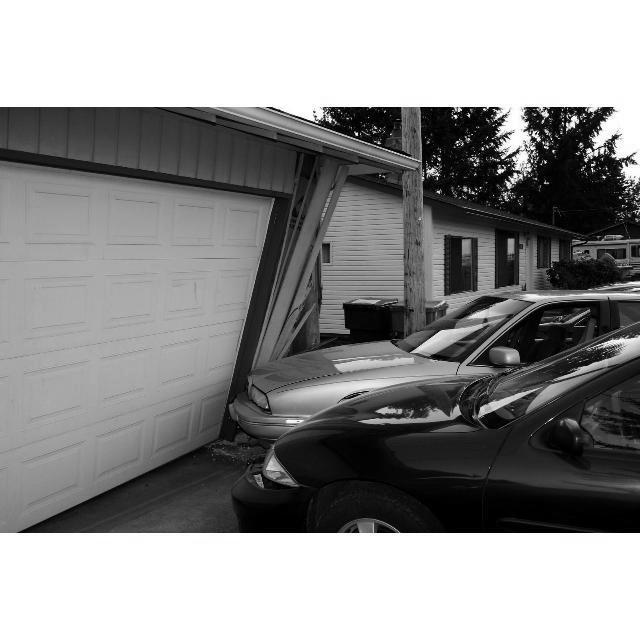front-bumper-dent: (205, 403, 276, 467)
